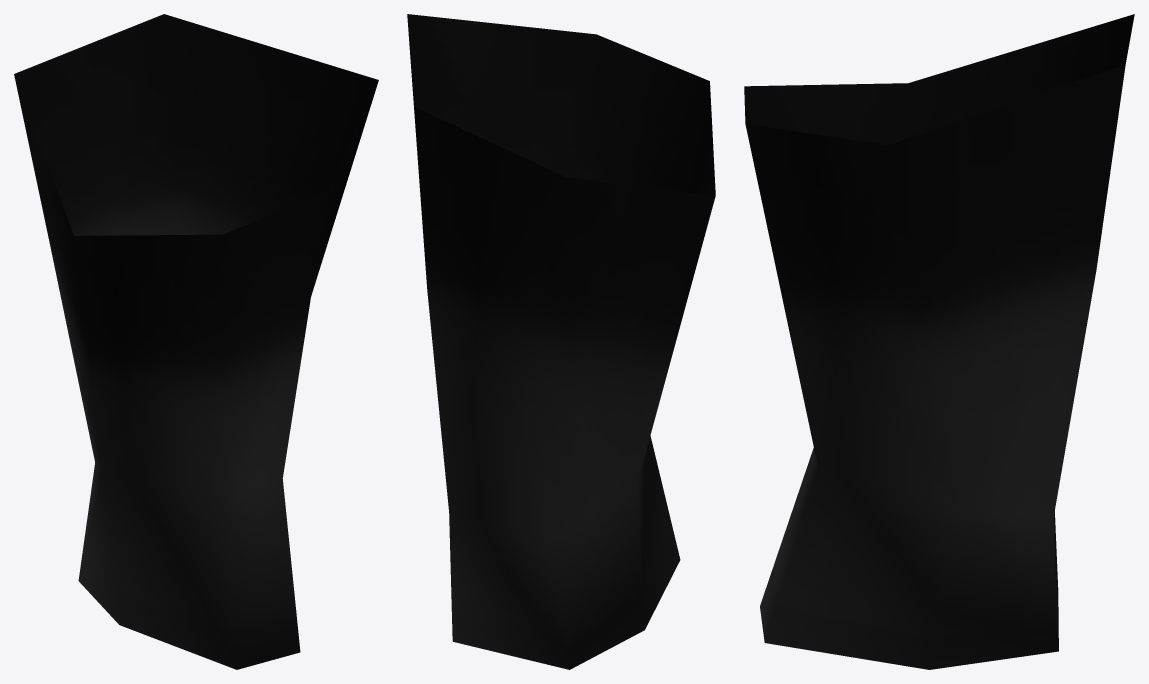
Rendered from foot.fbx.
3 renders of one model, left to right at view 1: azimuth 30°, elevation 25°; view 2: azimuth 150°, elevation 25°; view 3: azimuth 270°, elevation 25°, orthographic. The views are drawn at different scales.
Visible parts, largest first — view 1: Attachment_L_Foot; view 2: Attachment_L_Foot; view 3: Attachment_L_Foot.
Boxes of the visible parts, <box> form: Attachment_L_Foot: <box>14,14,378,669</box>; Attachment_L_Foot: <box>407,14,715,669</box>; Attachment_L_Foot: <box>744,14,1134,669</box>.
Bounding box in the file's own units: 16.01 × 26.77 × 16.02.
